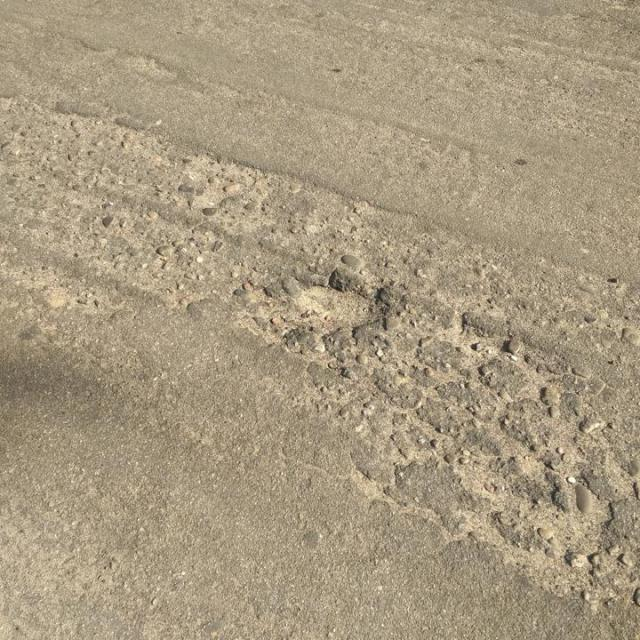Pothole: (288, 278, 390, 328)
